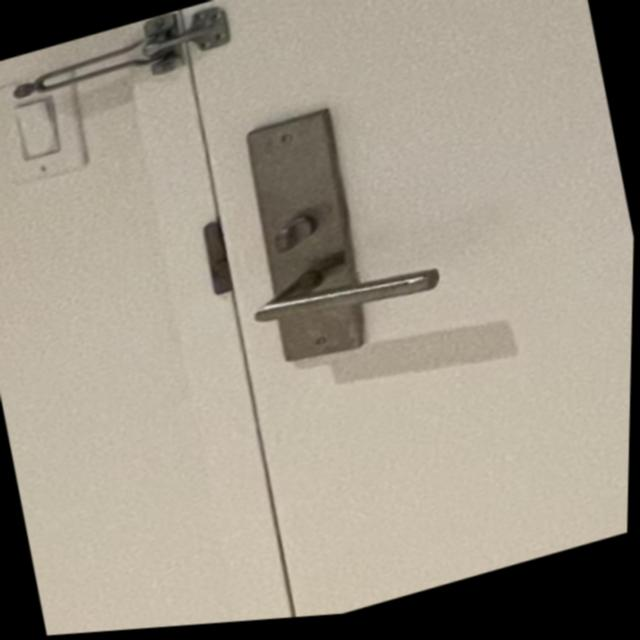door_handle: (203, 216, 474, 386)
